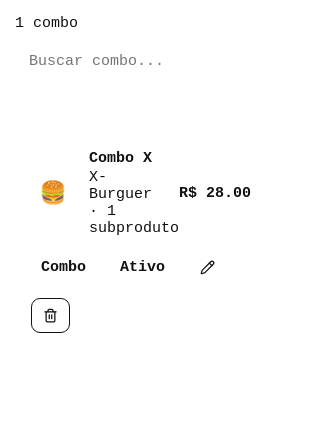
Test: CombosView, ligar/desligar combo › erro no banco desfaz a mudança e avisa
Expected: the text "Combo X" is shown, top-left (89, 150), bottom-right (152, 167)
Click the button "Ativo".
click(142, 268)  # box top-left (110, 256), bottom-right (175, 279)
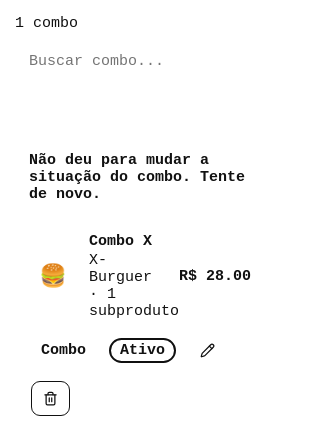
Expected: the button "Ativo" is shown, top-left (110, 339), bottom-right (175, 362)
Result: the message shows "Não deu para mudar a situação do combo" at top-left (29, 152), bottom-right (245, 203)
